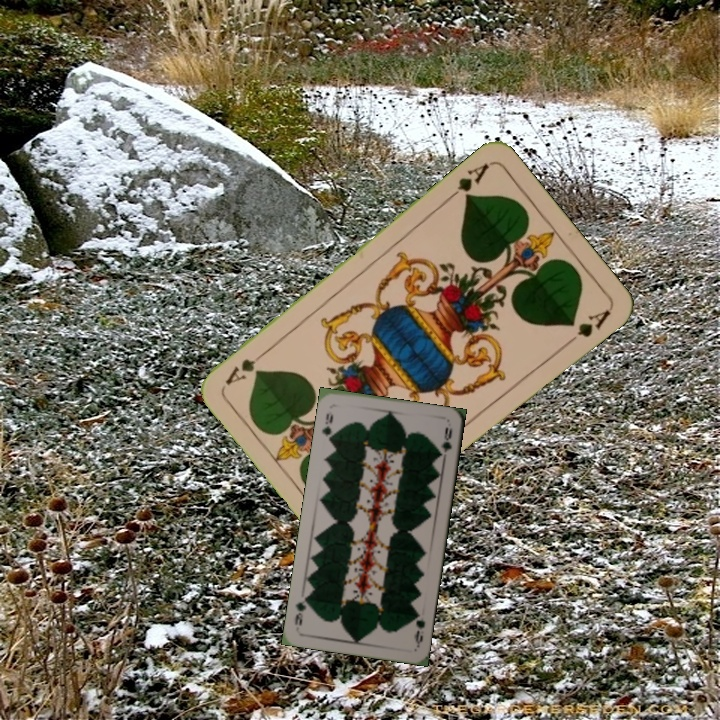G9: (410, 607, 428, 649), (318, 409, 336, 445)
GA: (444, 159, 492, 203)
